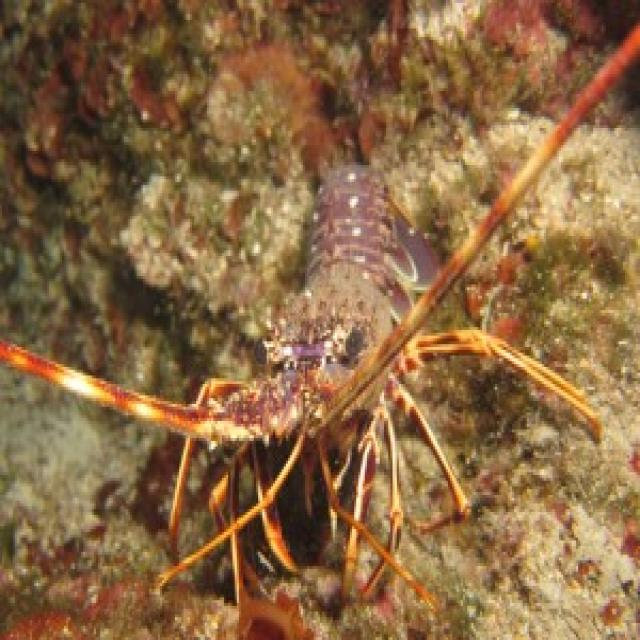lobsters: (73, 76, 614, 631)
